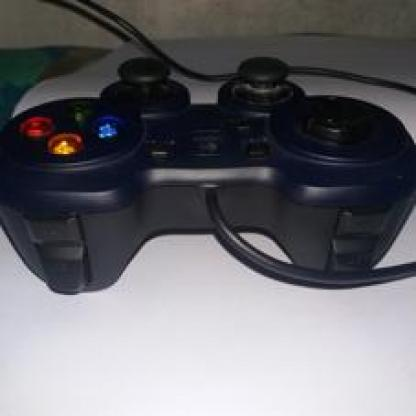gamepad: (4, 48, 407, 326)
